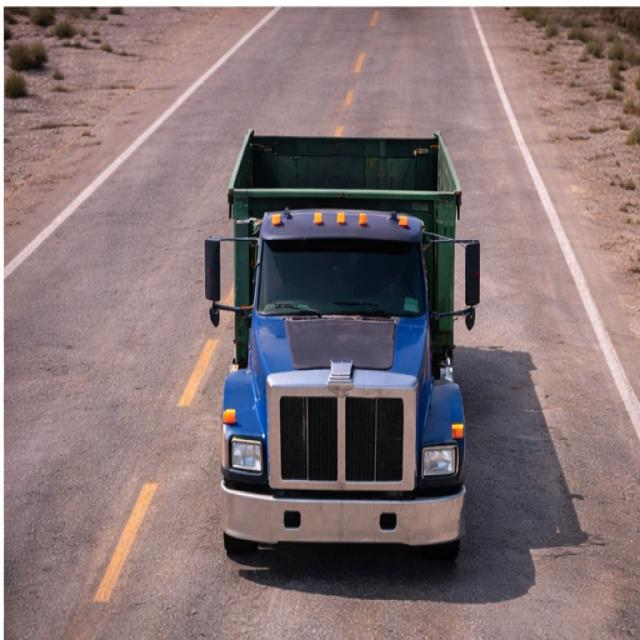Box: (231, 126, 461, 208)
Truck: (206, 89, 481, 565)
